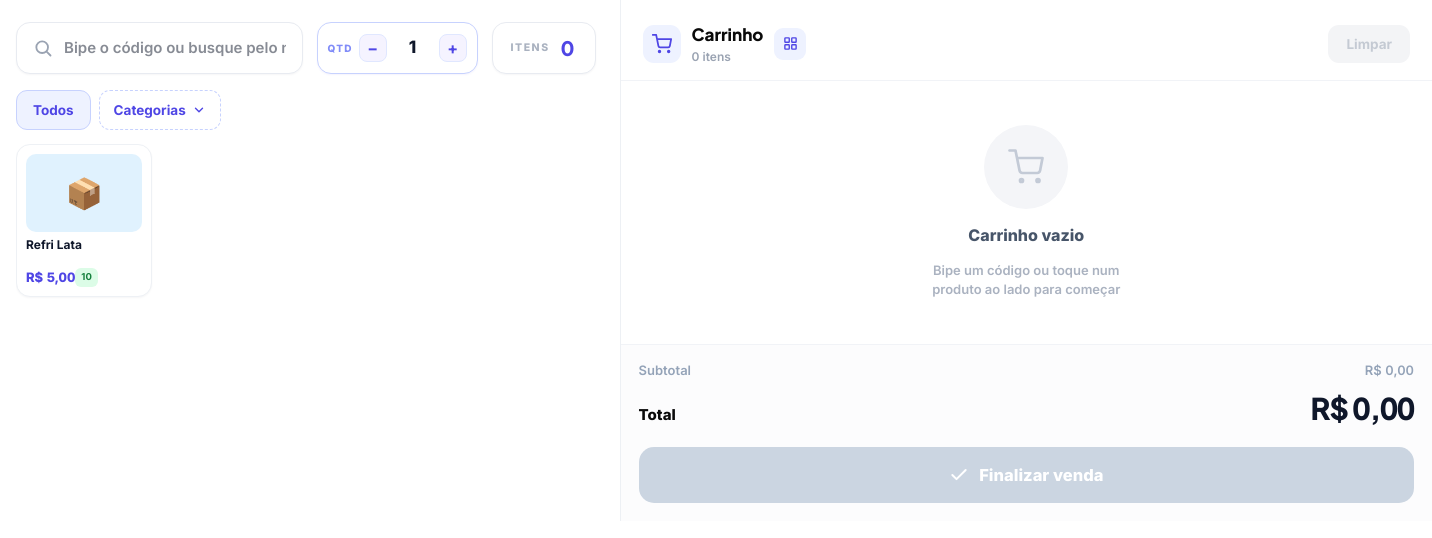
Test: CashierScreen toggle expandir/ocultar categorias (0025F) › recolhido com filtro ativo mantém o chip da categoria ativa visível
Click the button with aria-label "Mostrar categorias" at (160, 110), box [99,90,221,130]
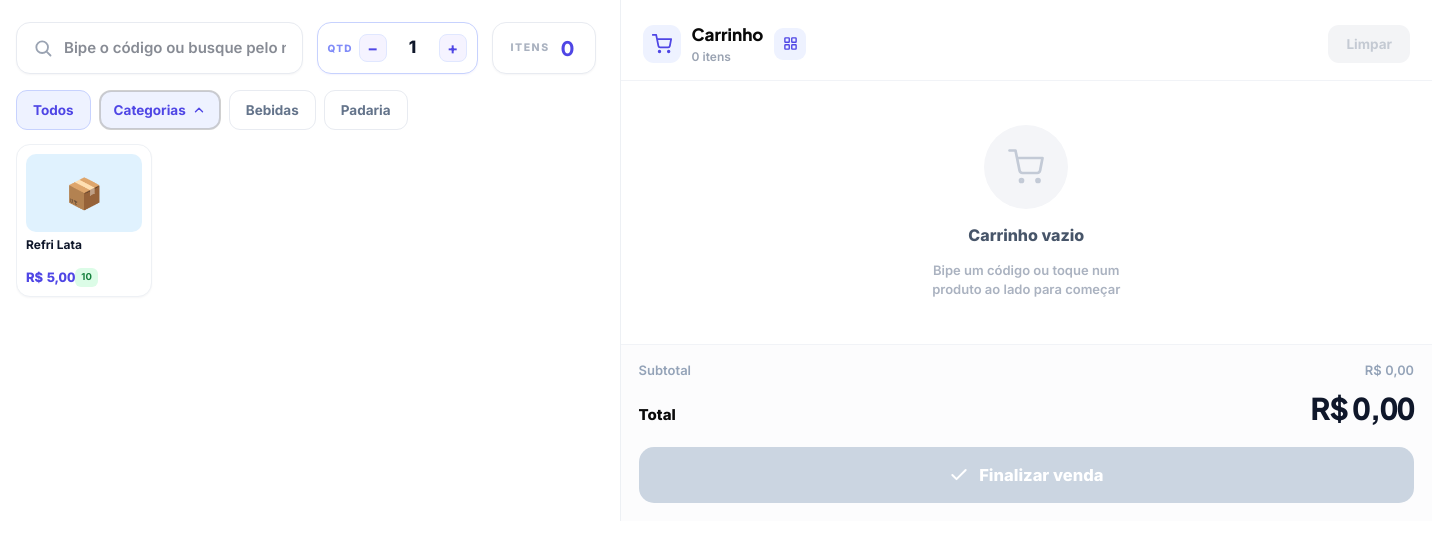
Click the button "Bebidas" at (272, 110), box [229,90,316,130]
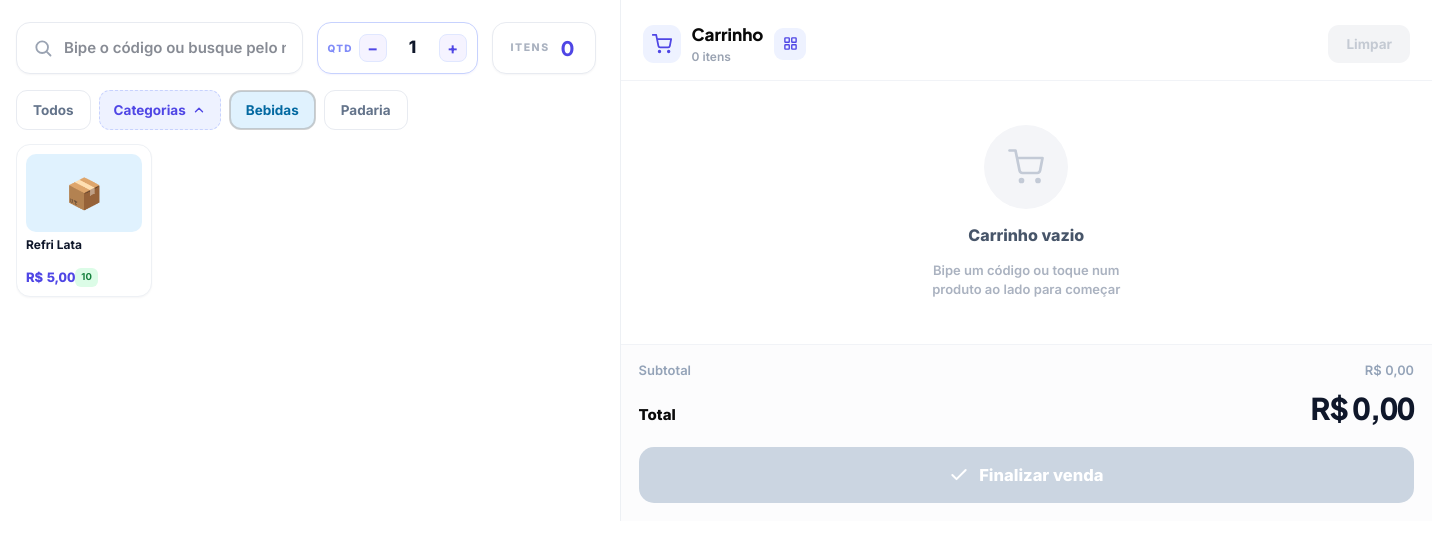
Click the button with aria-label "Ocultar categorias" at (160, 110), box [99,90,221,130]
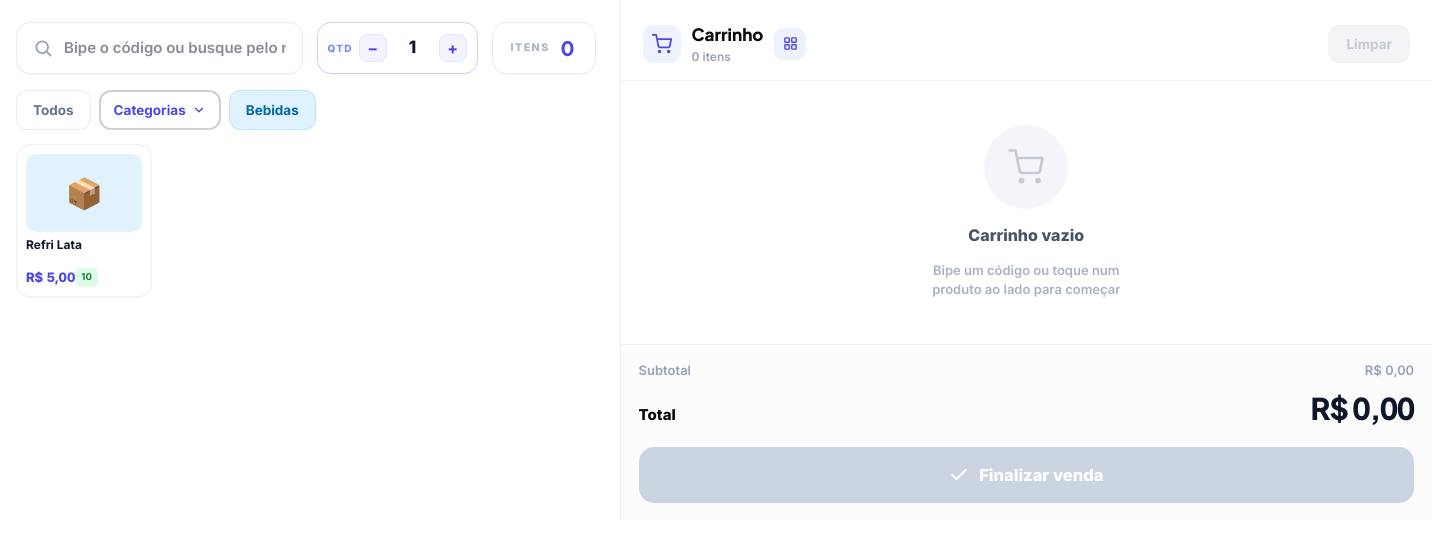
Check: the button "Bebidas" is shown, box [229,90,316,130]
Check: the button "Padaria" is gone
